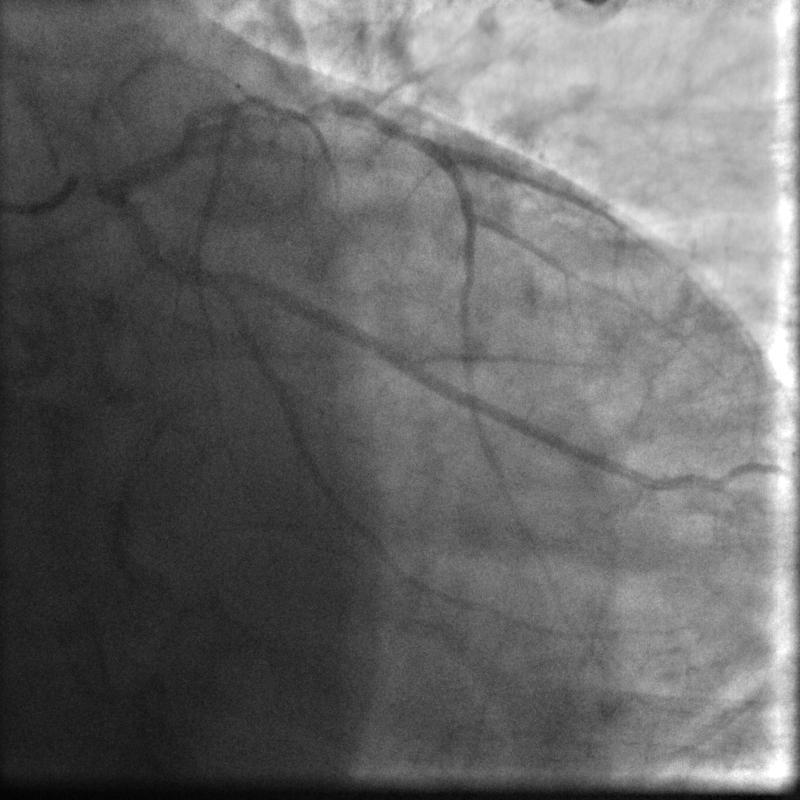Stenosis: (251, 94, 334, 120)
